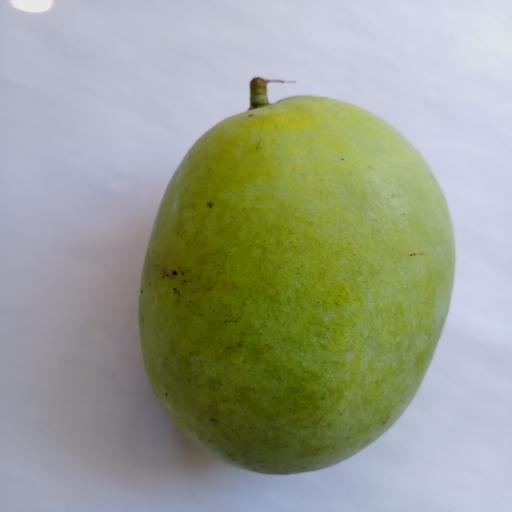mango-unripe: (129, 49, 477, 497)
